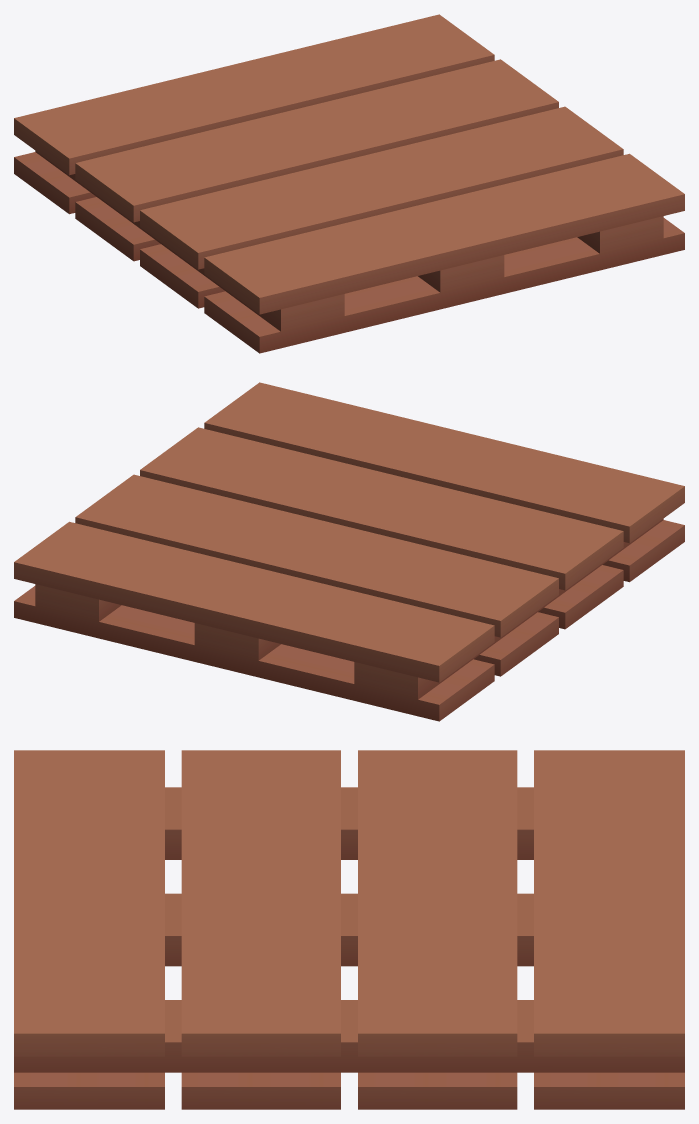
The model's file is pallet-large.glb.
3 renders of one model, top to bottom at view 1: azimuth 30°, elevation 25°; view 2: azimuth 150°, elevation 25°; view 3: azimuth 270°, elevation 25°, orthographic. The views are drawn at different scales.
Visible parts, largest first — view 1: Pallet_Large; view 2: Pallet_Large; view 3: Pallet_Large.
Part boxes in pixels (left/top/right/bottom): Pallet_Large: left=14, top=14, right=684, bottom=353; Pallet_Large: left=14, top=382, right=684, bottom=721; Pallet_Large: left=14, top=750, right=684, bottom=1109.
Bounding box in the file's own units: 4 × 0.5 × 4.
Materials: 1 (1 with a texture image).
